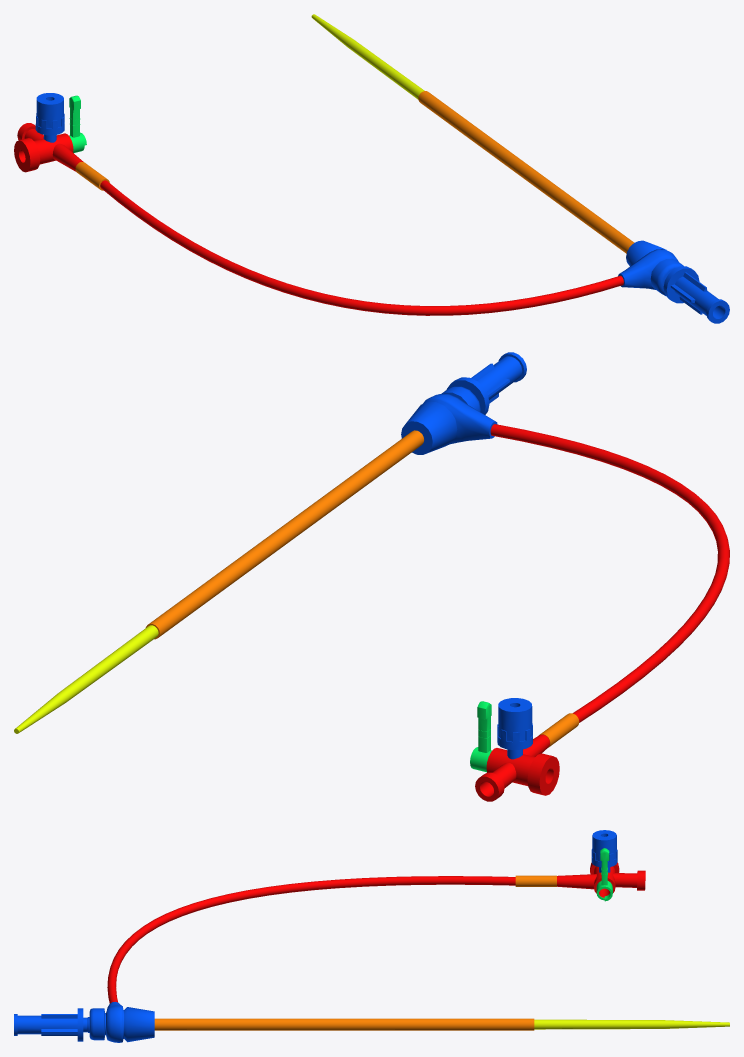
Rendered from Cook508.fbx.
3 renders of one model, top to bottom at view 1: azimuth 30°, elevation 25°; view 2: azimuth 150°, elevation 25°; view 3: azimuth 270°, elevation 25°, orthographic. The views are drawn at different scales.
Parts seen in each view (by area): view 1: cook50804, cook50803, cook50800, cook50801, cook50802; view 2: cook50803, cook50804, cook50800, cook50801, cook50802; view 3: cook50801, cook50804, cook50800, cook50803, cook50802.
Boxes of the visible parts, x1,y1,x2,y2 form: cook50804: (100, 180, 623, 315); cook50803: (14, 93, 109, 190); cook50800: (618, 240, 729, 323); cook50801: (418, 91, 634, 253); cook50802: (311, 14, 424, 99); cook50803: (470, 698, 579, 801); cook50804: (490, 424, 729, 722); cook50800: (401, 352, 526, 454); cook50801: (145, 430, 423, 639); cook50802: (14, 625, 158, 733); cook50801: (154, 1018, 534, 1030); cook50804: (107, 876, 515, 1003); cook50800: (14, 1001, 154, 1042); cook50803: (515, 830, 645, 901); cook50802: (534, 1019, 729, 1029).
Size of the model in its own units: 9.2 by 1.62 by 16.97.
